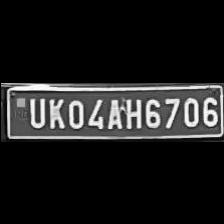0: (66, 96, 86, 128), (181, 96, 201, 124)
4: (84, 94, 107, 128)
6: (138, 94, 162, 130), (199, 94, 219, 125)
7: (159, 96, 175, 128)
A: (106, 94, 127, 128)
H: (121, 94, 141, 130)
K: (46, 95, 64, 127)
U: (26, 92, 48, 128)
